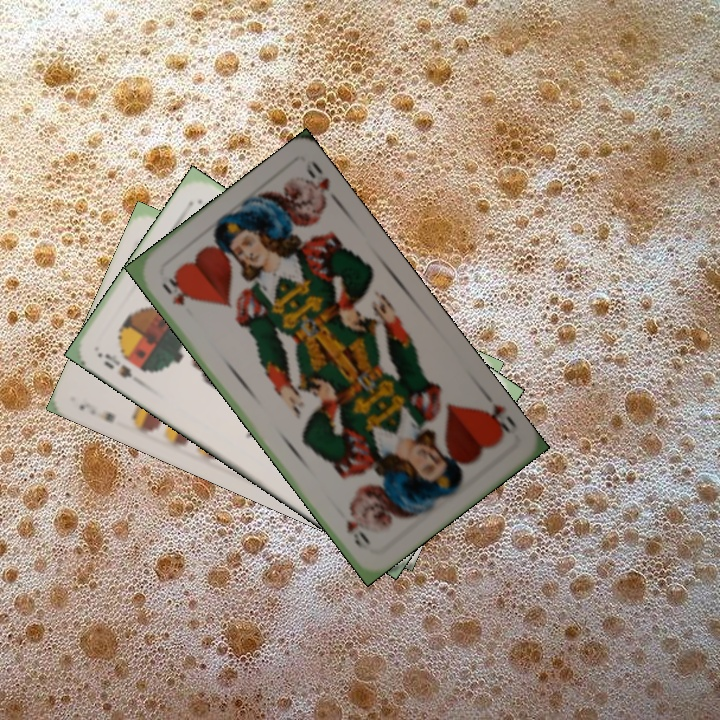E7: (74, 398, 118, 425)
HO: (476, 388, 520, 442), (157, 274, 189, 308)
SO: (99, 349, 135, 381)
